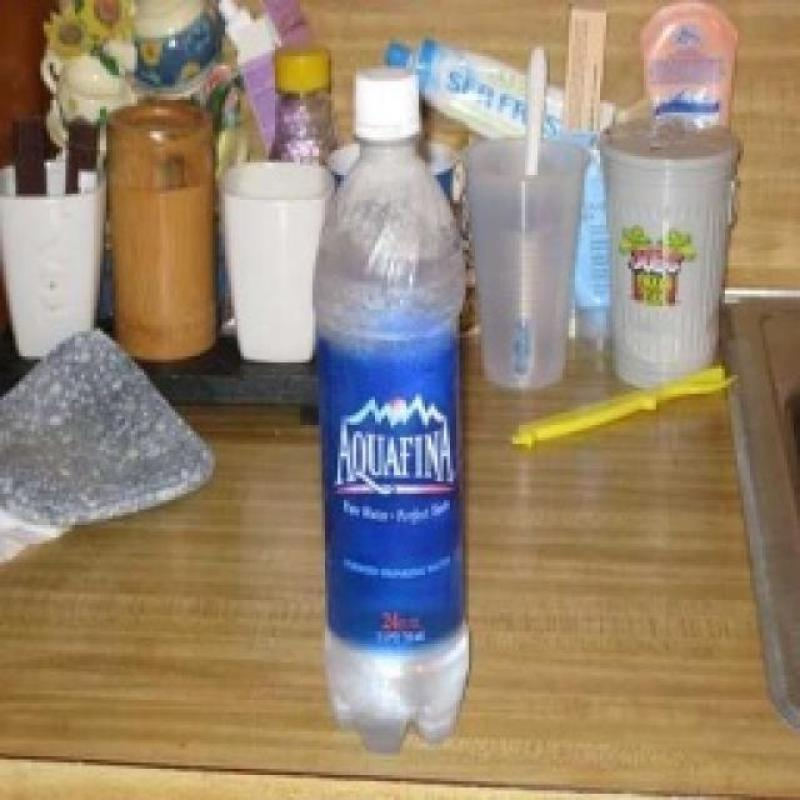botella: (310, 66, 470, 756), (268, 48, 334, 177)
